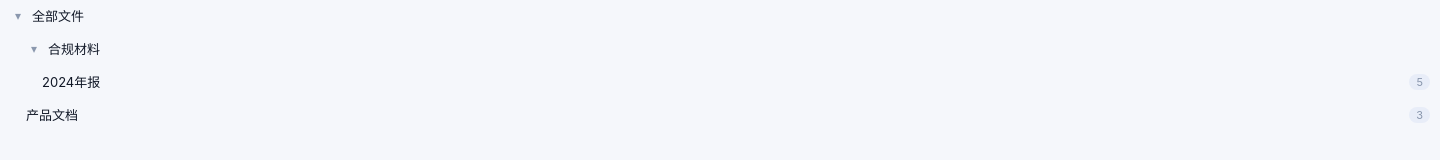
Test case: TreeMenu › 点击展开图标收起子节点
Expected: the number of elements with class "tree-node" is 4, [15,8,84,24]; [31,41,100,57]; [42,74,1430,90]; [26,106,1430,123]
Note: 点击根节点的展开图标收起
Click the icon with class "toggle-icon" next to "全部文件" at (18, 16), box [15,8,21,23]
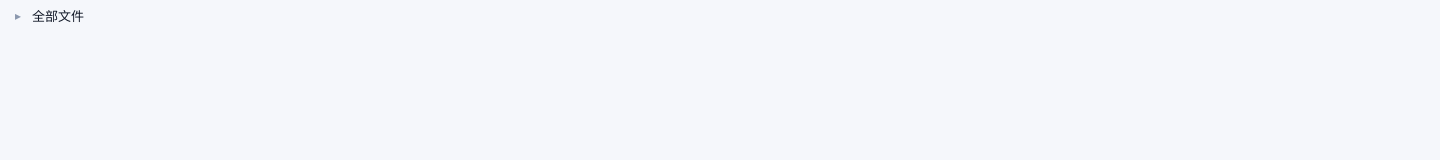
Result: the number of elements with class "tree-node" is 1 at [15,8,84,24]
